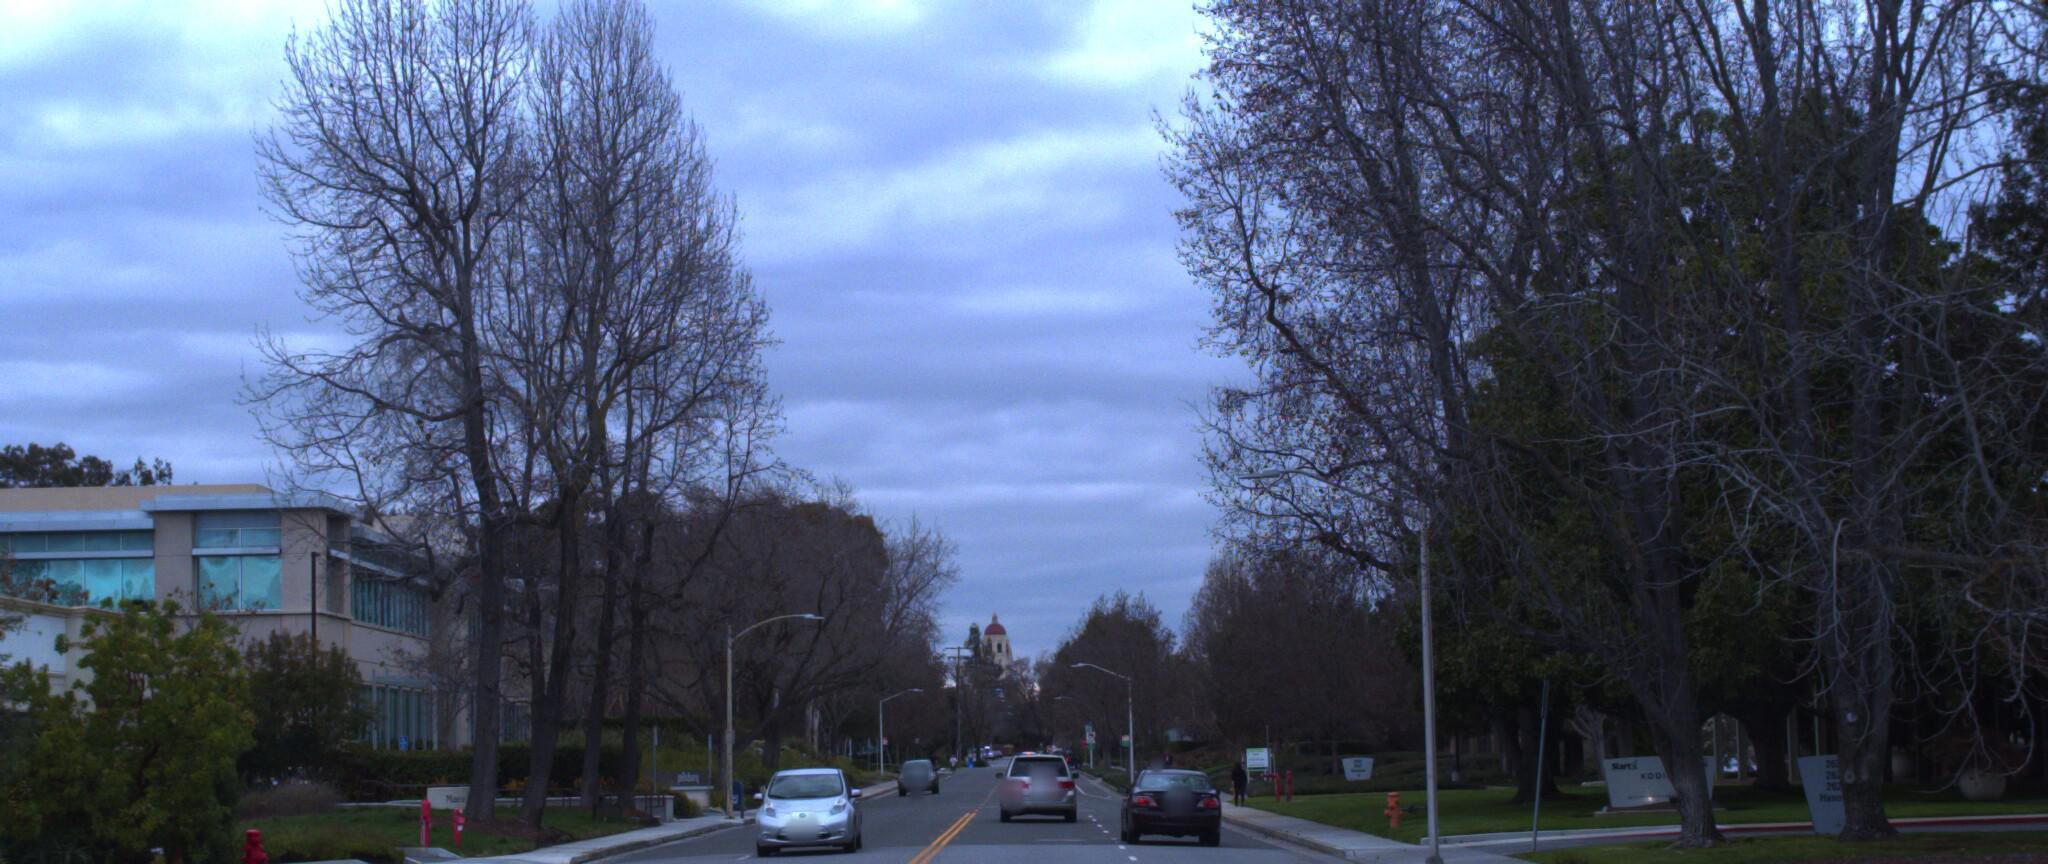car: (737, 750, 856, 841), (1114, 760, 1226, 844), (999, 737, 1081, 808)
